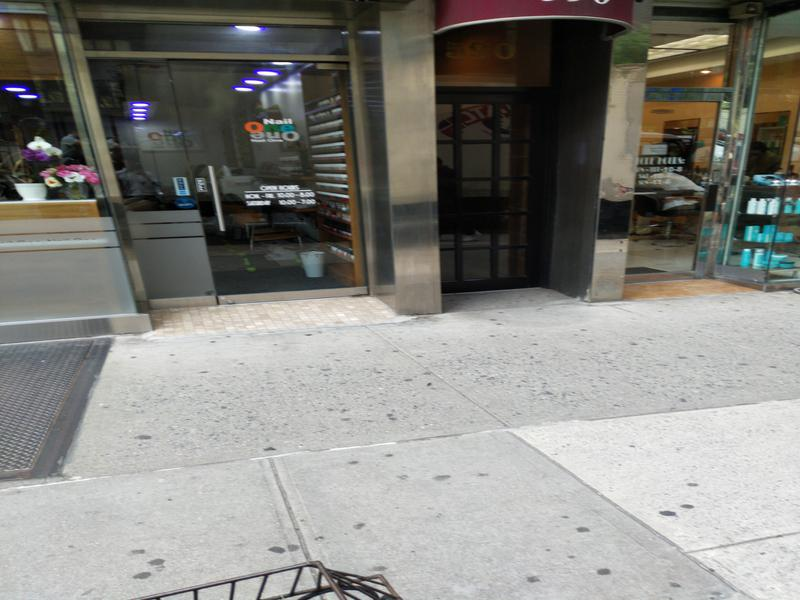door: (164, 52, 384, 307), (436, 89, 556, 289), (640, 89, 710, 283)
